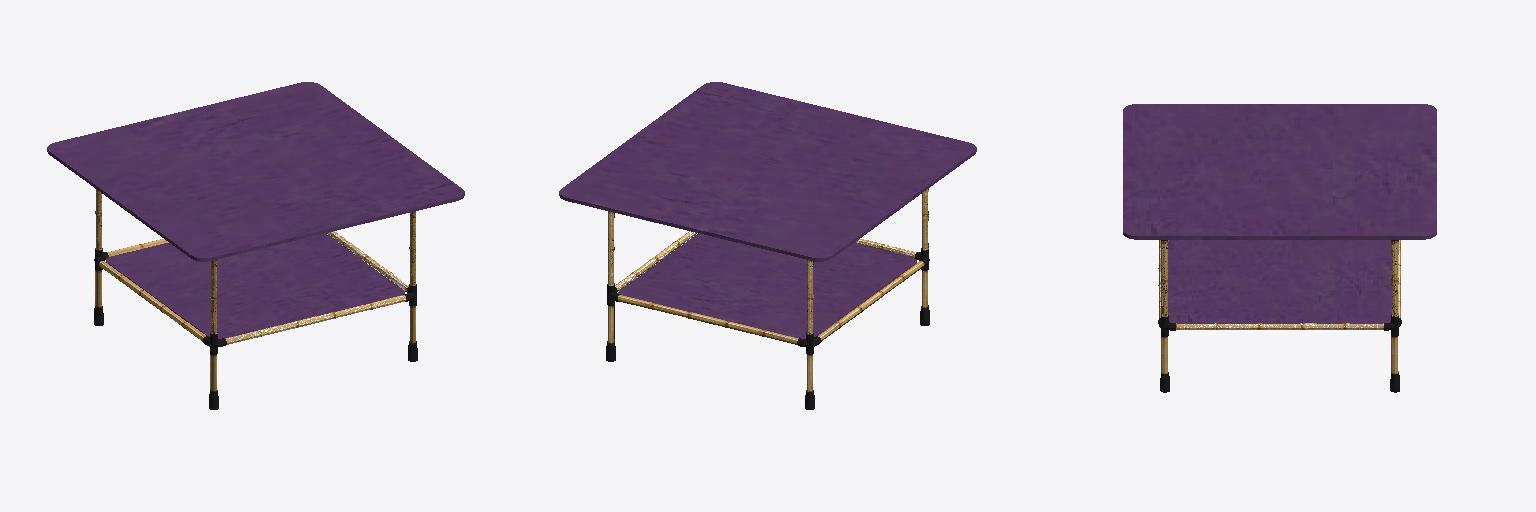
3 views of the same model, side by side, from view 1: azimuth 30°, elevation 25°; view 2: azimuth 150°, elevation 25°; view 3: azimuth 270°, elevation 25° (orthographic).
Visible parts, largest first — view 1: mesh2_mesh2-geometry, mesh1_mesh1-geometry, mesh13_mesh13-geometry, mesh6_mesh6-geometry, mesh4_mesh4-geometry, mesh17_mesh17-geometry, mesh5_mesh5-geometry, mesh16_mesh16-geometry; view 2: mesh2_mesh2-geometry, mesh1_mesh1-geometry, mesh13_mesh13-geometry, mesh3_mesh3-geometry, mesh4_mesh4-geometry, mesh17_mesh17-geometry, mesh5_mesh5-geometry, mesh16_mesh16-geometry; view 3: mesh2_mesh2-geometry, mesh1_mesh1-geometry, mesh5_mesh5-geometry, mesh13_mesh13-geometry.
Part boxes in pixels (left/top/right/bottom): mesh2_mesh2-geometry: left=47, top=82, right=464, bottom=261; mesh1_mesh1-geometry: left=106, top=233, right=404, bottom=338; mesh13_mesh13-geometry: left=95, top=189, right=415, bottom=334; mesh6_mesh6-geometry: left=225, top=295, right=406, bottom=344; mesh4_mesh4-geometry: left=99, top=261, right=205, bottom=341; mesh17_mesh17-geometry: left=95, top=270, right=415, bottom=391; mesh5_mesh5-geometry: left=326, top=231, right=408, bottom=291; mesh16_mesh16-geometry: left=94, top=306, right=417, bottom=409; mesh2_mesh2-geometry: left=559, top=82, right=976, bottom=261; mesh1_mesh1-geometry: left=617, top=233, right=916, bottom=338; mesh13_mesh13-geometry: left=608, top=189, right=928, bottom=334; mesh3_mesh3-geometry: left=617, top=295, right=798, bottom=344; mesh4_mesh4-geometry: left=818, top=261, right=924, bottom=341; mesh17_mesh17-geometry: left=608, top=270, right=928, bottom=391; mesh5_mesh5-geometry: left=615, top=231, right=696, bottom=290; mesh16_mesh16-geometry: left=606, top=306, right=929, bottom=409; mesh2_mesh2-geometry: left=1123, top=104, right=1436, bottom=239; mesh1_mesh1-geometry: left=1168, top=240, right=1391, bottom=323; mesh5_mesh5-geometry: left=1176, top=323, right=1383, bottom=329; mesh13_mesh13-geometry: left=1161, top=240, right=1398, bottom=316.
Bounding box in the file's own units: 0.6496 × 0.3927 × 0.651.
Materials: 4 (2 with a texture image).